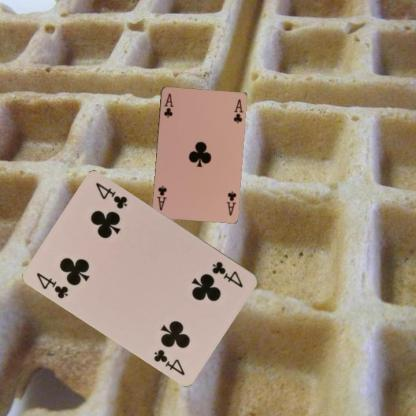4c: (209, 258, 245, 289), (34, 270, 71, 300)
Ac: (223, 188, 238, 217), (161, 91, 175, 118)
